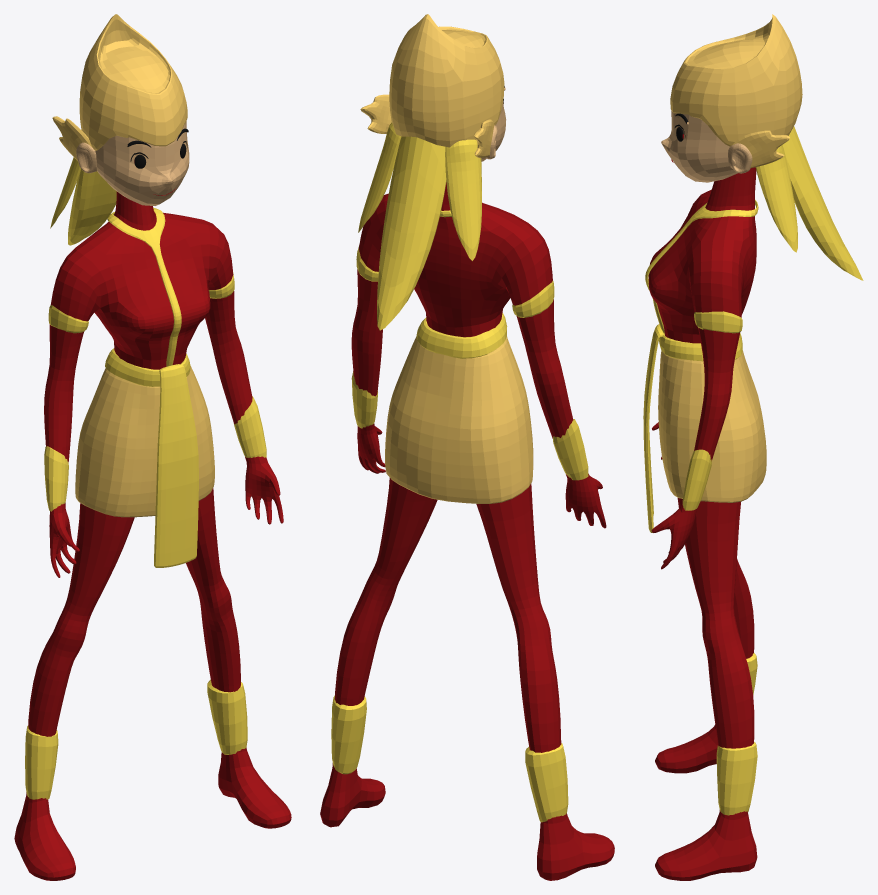
The model's file is a mareta_4.gltf.
3 renders of one model, left to right at view 1: azimuth 30°, elevation 25°; view 2: azimuth 150°, elevation 25°; view 3: azimuth 270°, elevation 25°, orthographic. The views are drawn at different scales.
Visible parts, largest first — view 1: base_human_female_default, base_human_female_default.003, base_human_female_default.001; view 2: base_human_female_default.003, base_human_female_default; view 3: base_human_female_default, base_human_female_default.003, base_human_female_default.001.
Part boxes in pixels (x1,y1,x2,y2): base_human_female_default: (14,121,291,880); base_human_female_default.003: (25,14,266,799); base_human_female_default.001: (107,207,181,366); base_human_female_default.003: (331,14,588,822); base_human_female_default: (320,86,614,880); base_human_female_default: (648,111,757,880); base_human_female_default.003: (643,14,863,815); base_human_female_default.001: (645,199,758,333).
Bounding box in the file's own units: 1.52 × 4.53 × 1.12.
